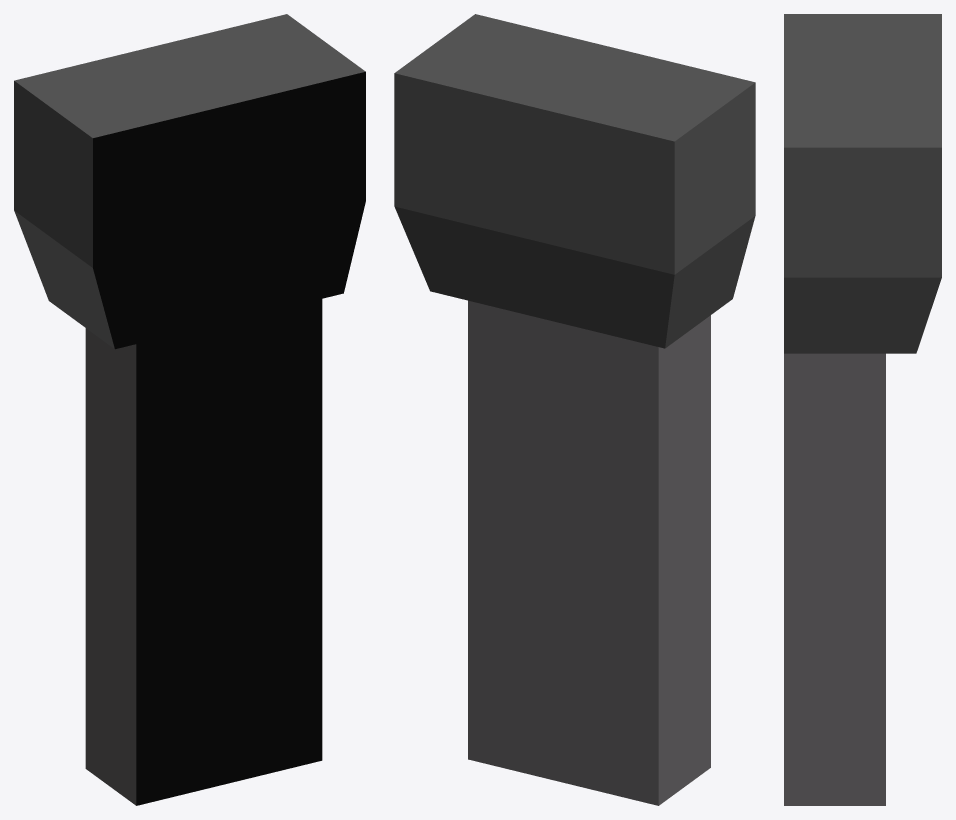
The model's file is Pillar_Half.fbx.
3 renders of one model, left to right at view 1: azimuth 30°, elevation 25°; view 2: azimuth 150°, elevation 25°; view 3: azimuth 270°, elevation 25°, orthographic. The views are drawn at different scales.
Visible parts, largest first — view 1: Pillar_Half; view 2: Pillar_Half; view 3: Pillar_Half.
Part boxes in pixels (x1=…): Pillar_Half: x1=14, y1=14, x2=365, y2=805; Pillar_Half: x1=394, y1=14, x2=755, y2=805; Pillar_Half: x1=784, y1=14, x2=941, y2=805.
Size of the model in its own units: 66 by 157 by 33.
